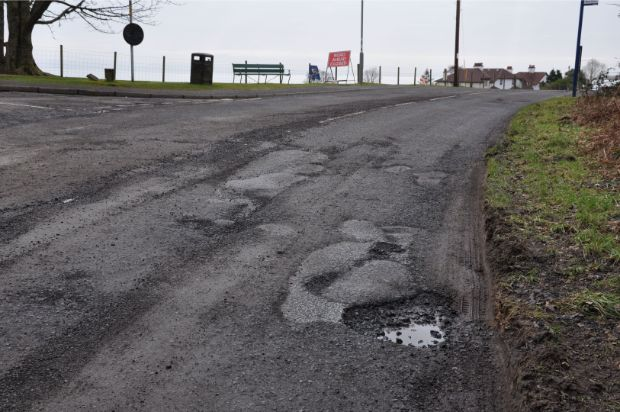pothole: (341, 292, 460, 349)
